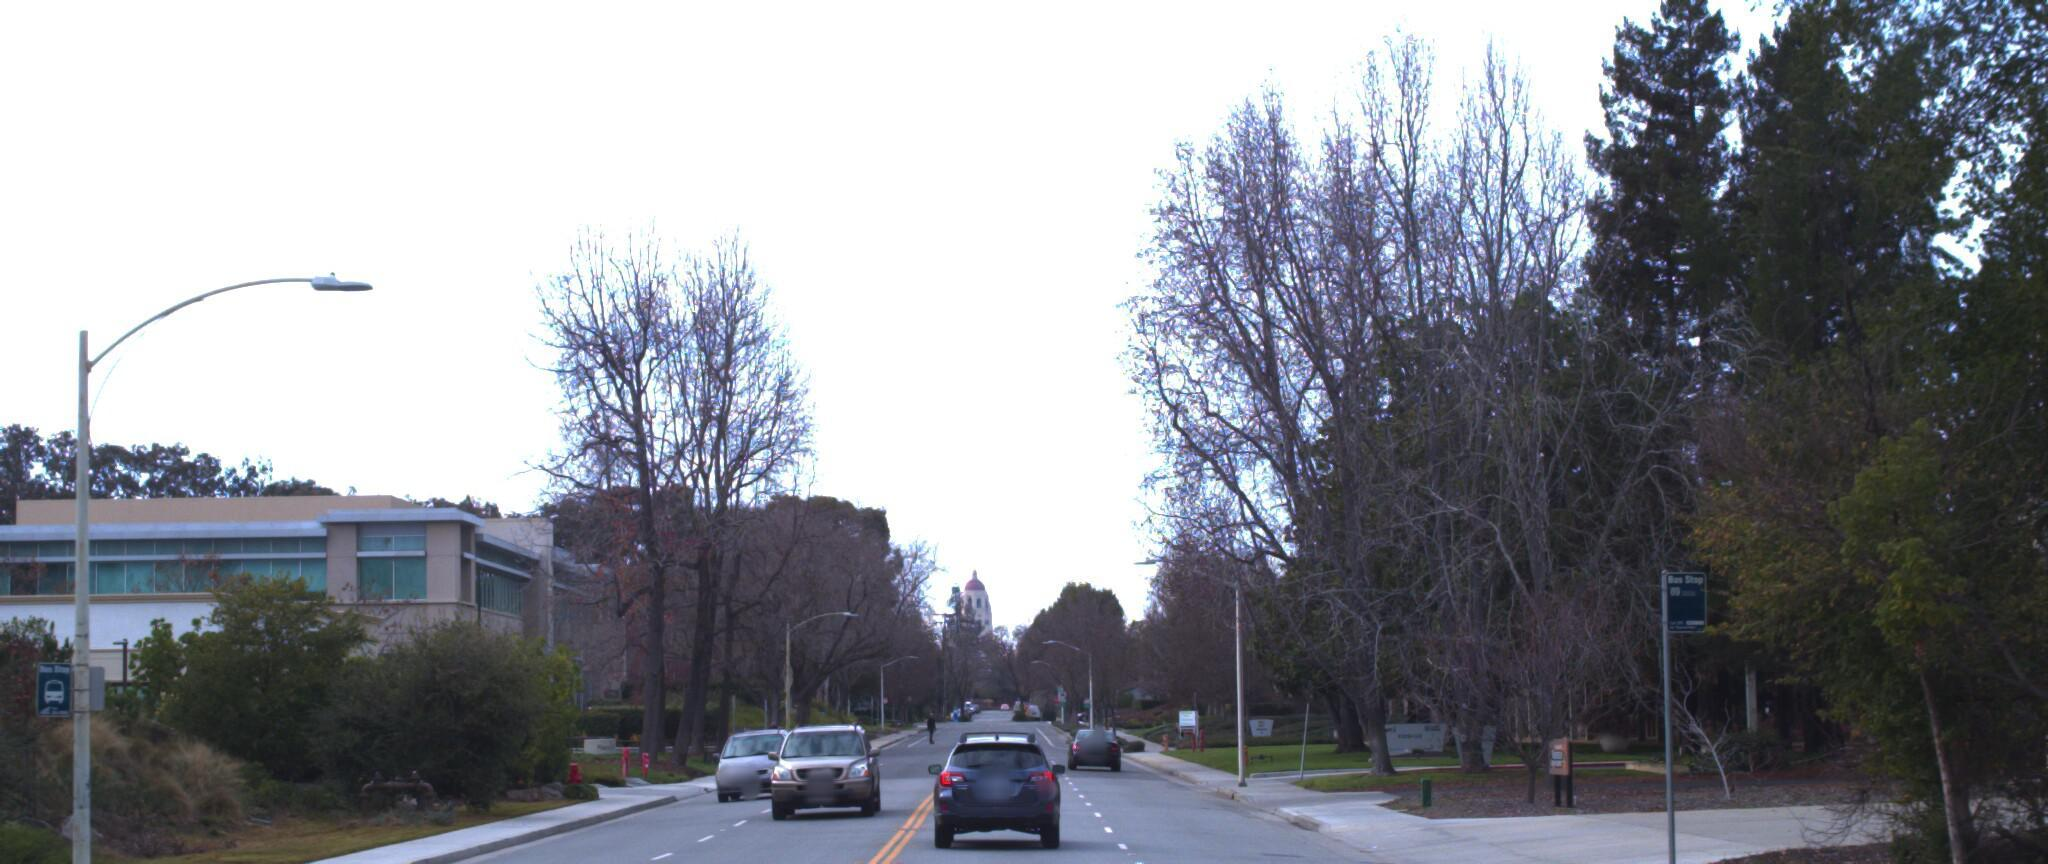car: (934, 730, 1057, 844), (758, 715, 874, 813)
